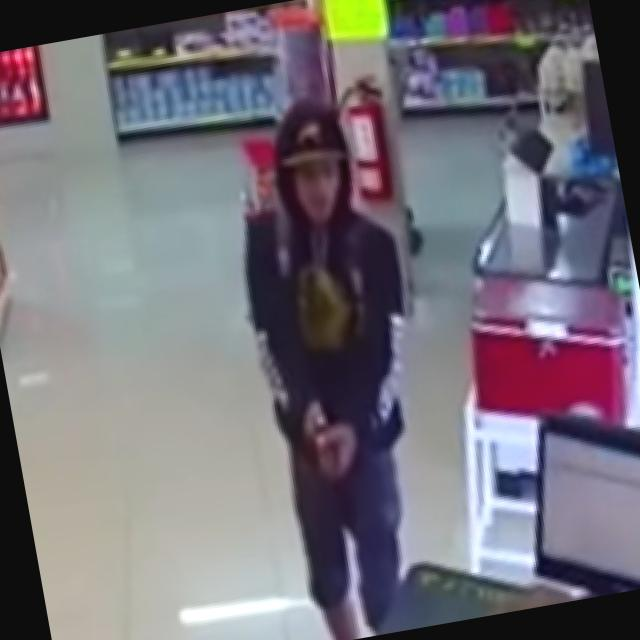person: (208, 87, 466, 640)
